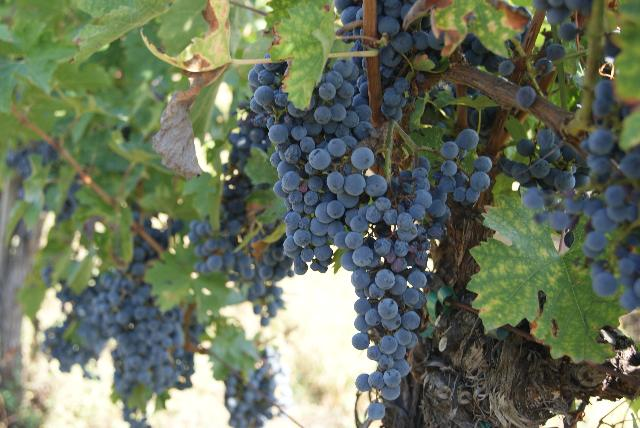grapes: (345, 130, 491, 420), (235, 62, 370, 270)
